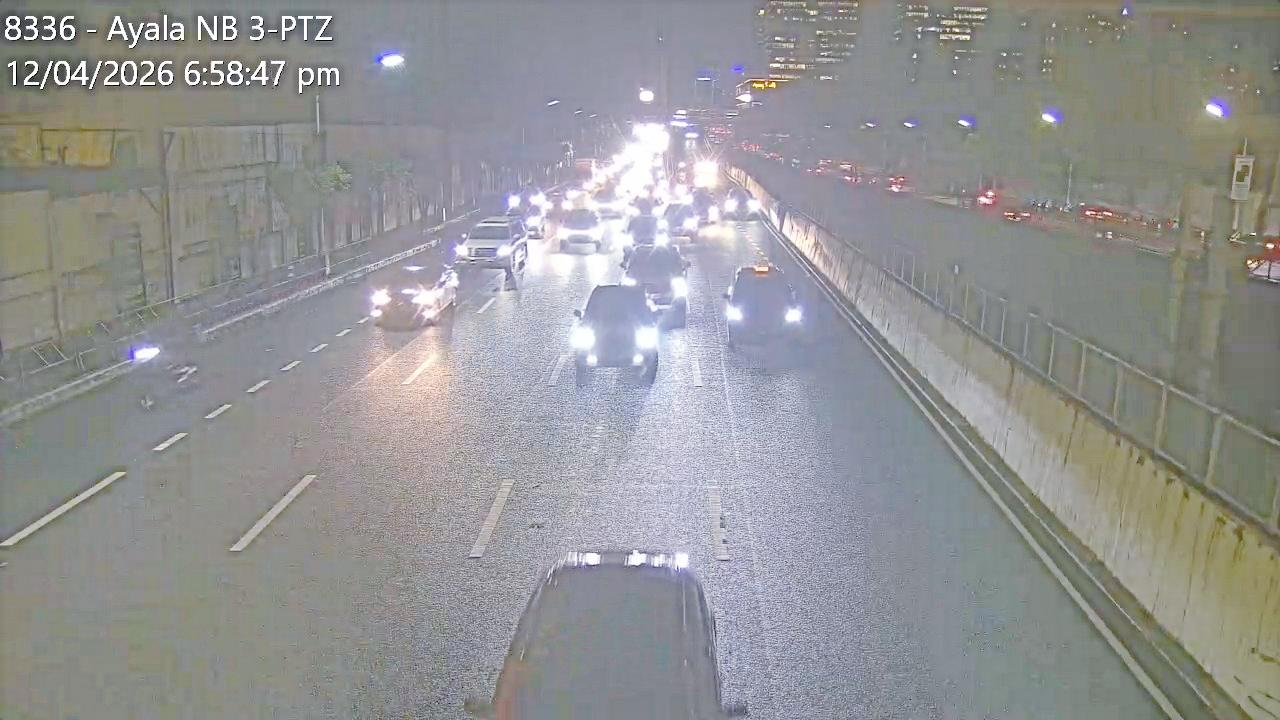Car: (467, 550, 745, 718), (568, 279, 663, 378), (721, 260, 801, 348), (618, 242, 691, 323), (372, 266, 454, 330), (460, 215, 531, 279), (553, 206, 610, 253), (660, 202, 700, 245), (624, 213, 665, 253), (506, 204, 547, 236), (722, 186, 757, 220), (694, 196, 719, 224)
Motor: (126, 304, 222, 410)
